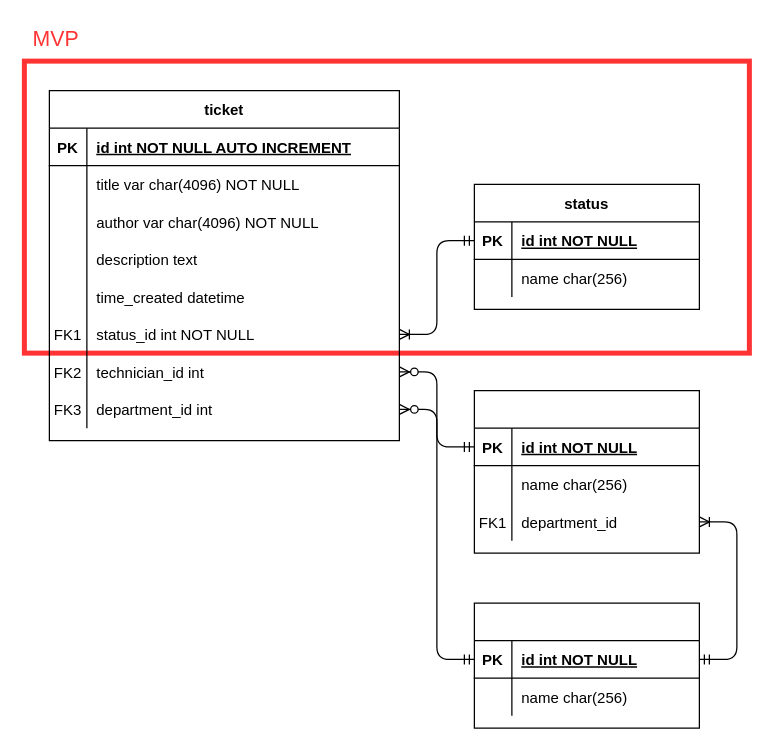
Some shapes in this 773 by 750 pixel diagram are drawn without their labels. Each missing label, with the box of its shape:
department: (473, 602, 699, 728)
technician: (473, 389, 699, 553)
